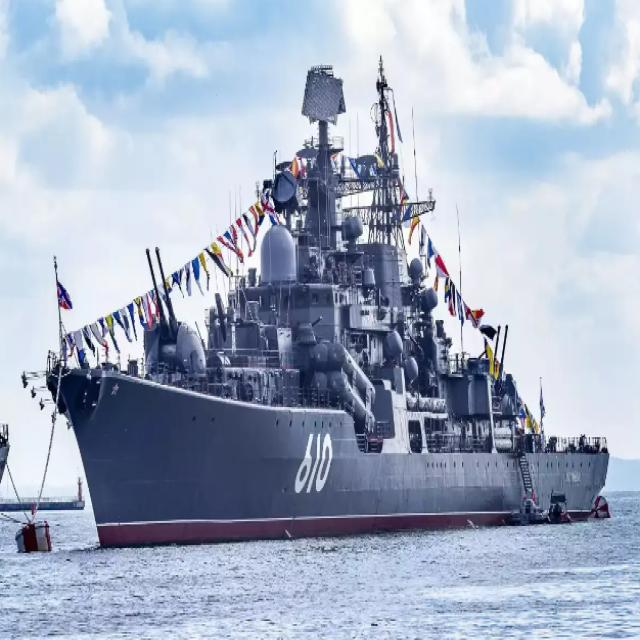navalvessels: (41, 61, 622, 549)
